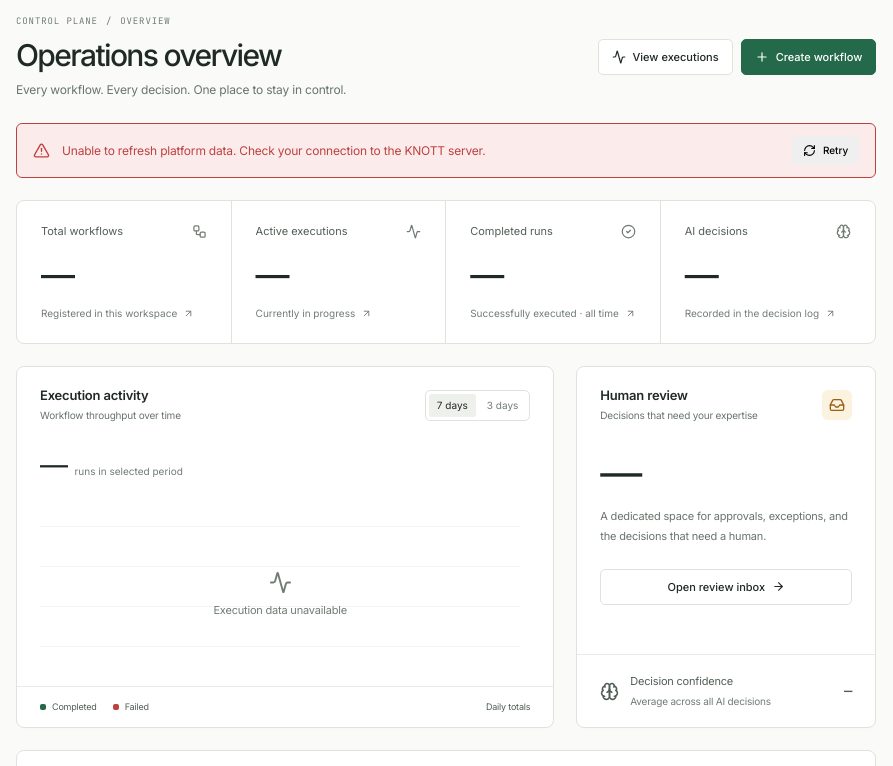
Test: Operations overview data states › shows unavailable data and lets operators retry without displaying false zeroes
The image size is (893, 766).
Check: the message shows "Unable to refresh", box [62,142,485,158]
Check: the button "Total workflows — Registered in this workspace" is shown, box [17,201,232,343]
What coordinates should you click on to do the following:
click the button "Retry"
I would click on:
 (826, 150)
Its box is [792,136,859,165].
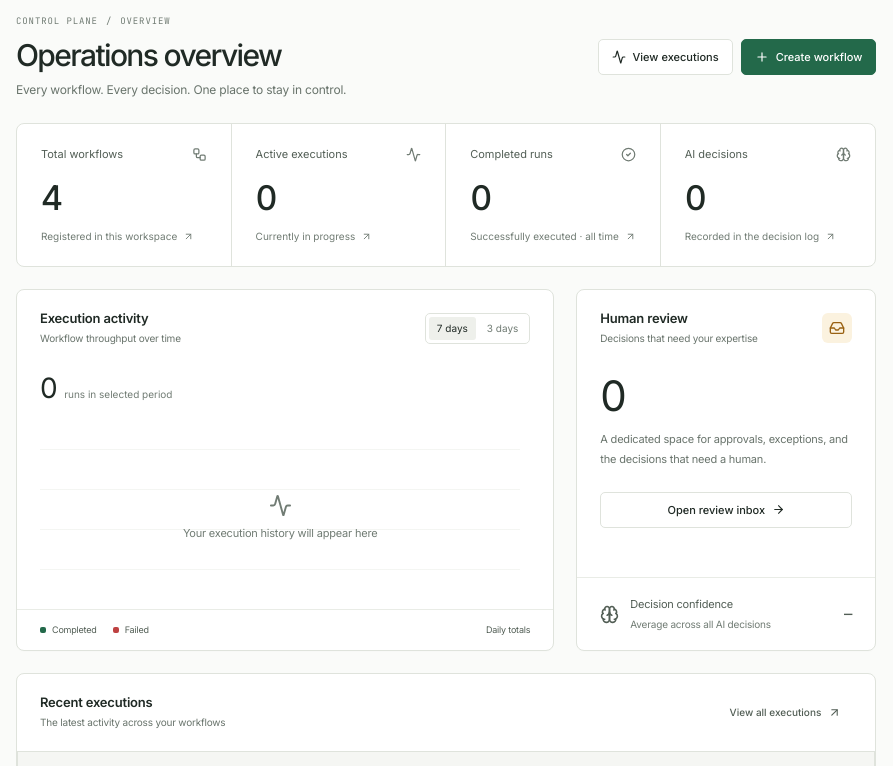
Check: the button "Total workflows 4 Registered in this workspace" is shown, box [17,124,232,266]
Check: the message is gone
